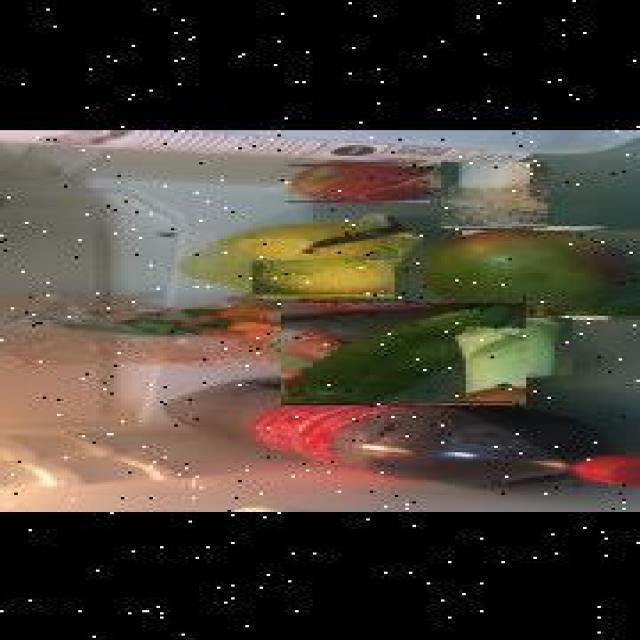apple: (288, 164, 430, 201)
bell_pepper: (281, 303, 526, 403)
leek: (441, 162, 547, 228), (452, 316, 572, 373)
lemon: (252, 260, 394, 297)
mango: (423, 226, 640, 316)
